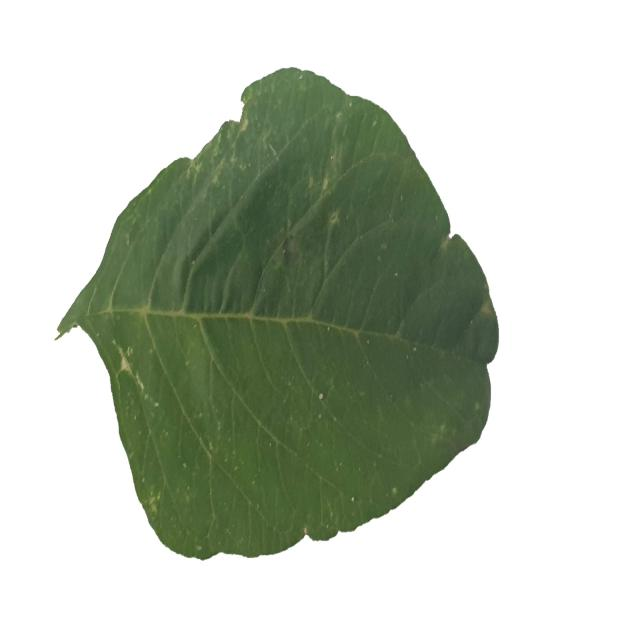Medicinal-Arive Dantu: (58, 60, 499, 566)
